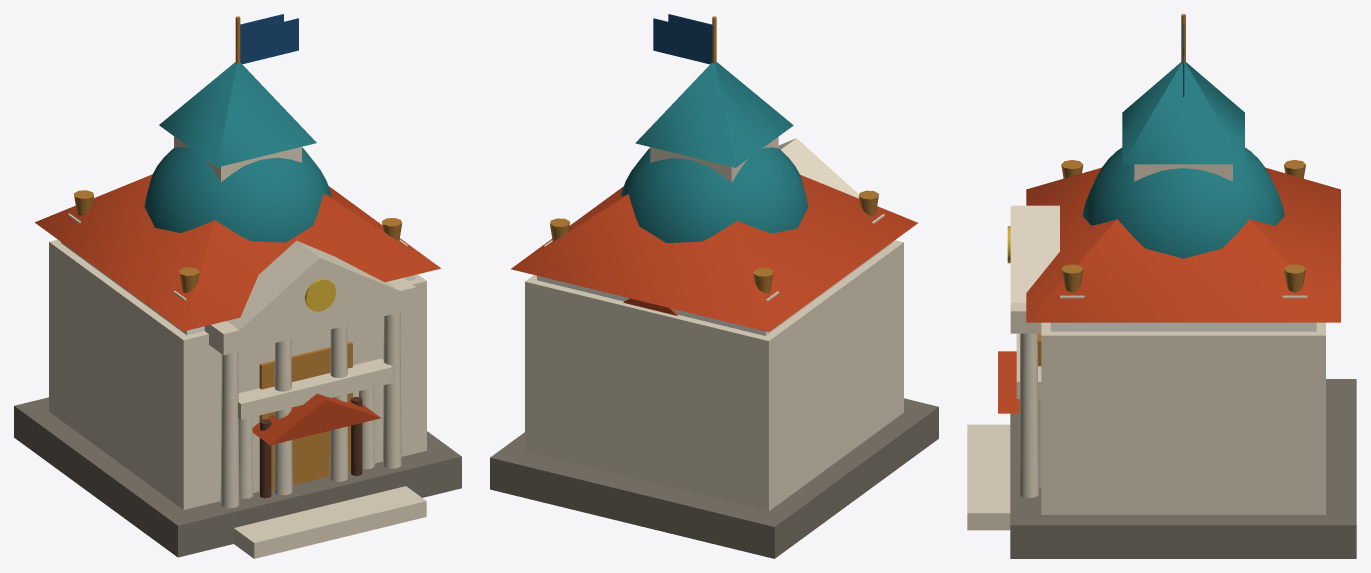
File: town_hall.glb
The picture shows the model from 3 angles, left to right: view 1: azimuth 30°, elevation 25°; view 2: azimuth 150°, elevation 25°; view 3: azimuth 270°, elevation 25°; orthographic projection. The views are drawn at different scales.
Visible parts, largest first — view 1: visual_level_3, visual_level_2, visual_level_1; view 2: visual_level_3, visual_level_2; view 3: visual_level_3, visual_level_2, visual_level_1.
Part boxes in pixels (box(x1,y1,x2,y2)): visual_level_3: box(14, 18, 461, 558); visual_level_2: box(35, 14, 440, 498); visual_level_1: box(252, 393, 381, 498); visual_level_3: box(490, 18, 938, 558); visual_level_2: box(510, 14, 917, 335); visual_level_3: box(967, 55, 1356, 558); visual_level_2: box(1016, 14, 1340, 487); visual_level_1: box(998, 351, 1019, 413).
Size of what is drawn, in the model's own units: 5.6 by 8.4 by 6.3.
